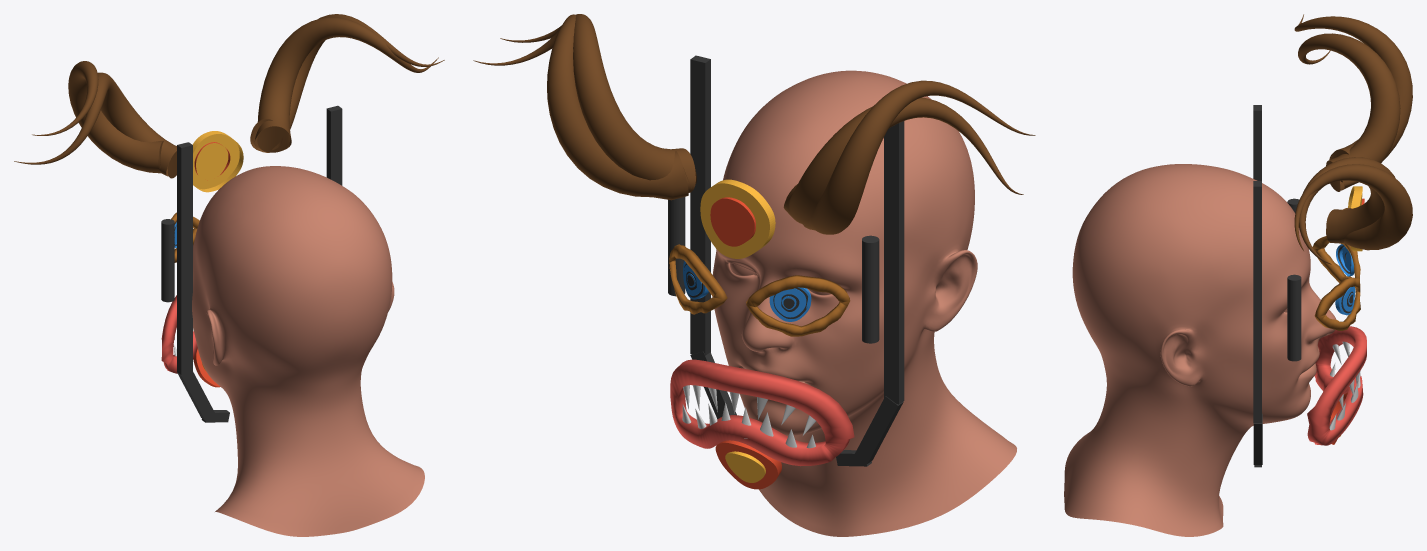
Rendered from mask.glb.
3 views of the same model, side by side, from view 1: azimuth 30°, elevation 25°; view 2: azimuth 150°, elevation 25°; view 3: azimuth 270°, elevation 25° (orthographic). The views are drawn at different scales.
Visible parts, largest first — view 1: FBHead, Cube.005, Spiral, Spiral.003, Spiral.001, Point.010, Spiral.002, Cylinder.001, Point.011; view 2: FBHead, Cube.005, Point.011, Spiral, Spiral.002, Spiral.003, Spiral.001, Point.010, Point.007, Cylinder.001, Point.001, Point.003 (+3 smaller); view 3: FBHead, Spiral.001, Spiral.002, Point.011, Cube.005, Spiral.003, Spiral, Cylinder, Point.001, Point.007.
Boxes of the visible parts, x1,y1,x2,y2 form: FBHead: (192,166,424,536); Cube.005: (177,105,342,422); Spiral: (254,17,438,152); Spiral.003: (32,61,168,173); Spiral.001: (14,72,176,178); Point.010: (192,131,243,192); Spiral.002: (250,14,444,151); Cylinder.001: (161,219,174,302); Point.011: (161,295,197,373); FBHead: (712,70,1016,536); Cube.005: (690,55,904,466); Point.011: (670,359,854,466); Spiral: (473,14,696,192); Spiral.002: (500,14,691,200); Spiral.003: (803,80,1035,234); Spiral.001: (783,97,1023,224); Point.010: (700,179,775,258); Point.007: (746,275,850,336); Cylinder.001: (862,235,879,343); Point.001: (669,244,727,314); Point.003: (710,197,755,246); FBHead: (1064,164,1336,536); Spiral.001: (1298,33,1400,191); Spiral.002: (1294,164,1412,250); Point.011: (1307,326,1366,445); Cube.005: (1253,105,1262,467); Spiral.003: (1294,14,1412,182); Spiral: (1299,157,1395,264); Cylinder: (1287,274,1301,361); Point.001: (1314,277,1360,330); Point.007: (1312,236,1360,282).
Bounding box in the file's own units: 4.16 × 3.94 × 2.84.
